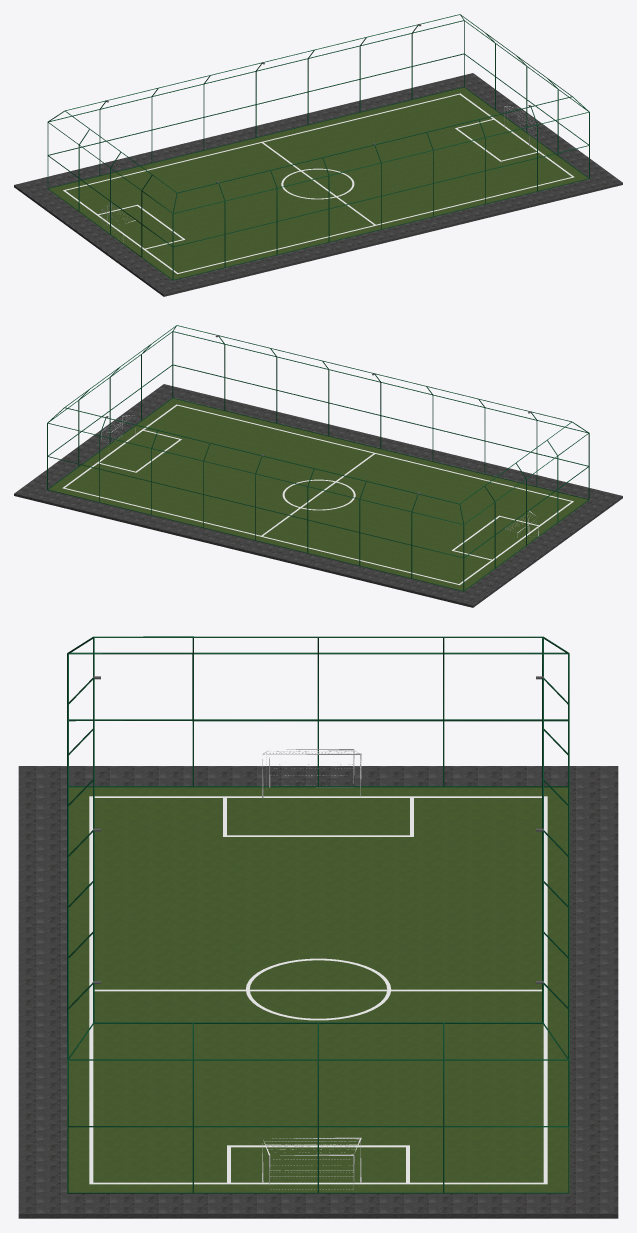
The model's file is Stadium.fbx.
The picture shows the model from 3 angles, top to bottom: view 1: azimuth 30°, elevation 25°; view 2: azimuth 150°, elevation 25°; view 3: azimuth 270°, elevation 25°; orthographic projection. The views are drawn at different scales.
Parts seen in each view (by area): view 1: MiniStadion.001, MiniStadion.007, MiniStadion.004, MiniStadion.008; view 2: MiniStadion.001, MiniStadion.007, MiniStadion.004, MiniStadion.008; view 3: MiniStadion.001, MiniStadion.007, MiniStadion.004, MiniStadion.008, MiniStadion.002.
Part boxes in pixels (x1,y1,x2,y2): MiniStadion.001: (47,87,588,280); MiniStadion.007: (14,73,622,296); MiniStadion.004: (47,14,589,280); MiniStadion.008: (63,93,574,273); MiniStadion.001: (48,398,589,591); MiniStadion.007: (14,384,622,607); MiniStadion.004: (47,325,589,591); MiniStadion.008: (62,404,573,585); MiniStadion.001: (67,787,569,1193); MiniStadion.007: (18,766,618,1218); MiniStadion.004: (67,636,569,1193); MiniStadion.008: (89,796,547,1184); MiniStadion.002: (262,749,361,1189).
Bounding box in the file's own units: 4324 × 744 × 2445.
6 materials, 2 textured.
